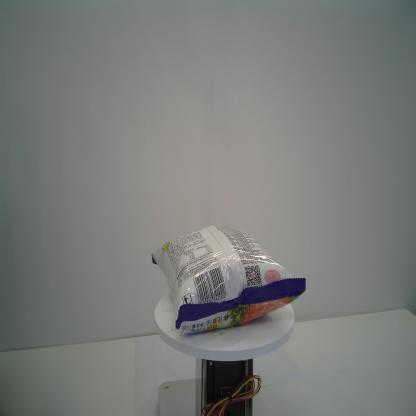Puffed Food: (150, 220, 308, 340)
